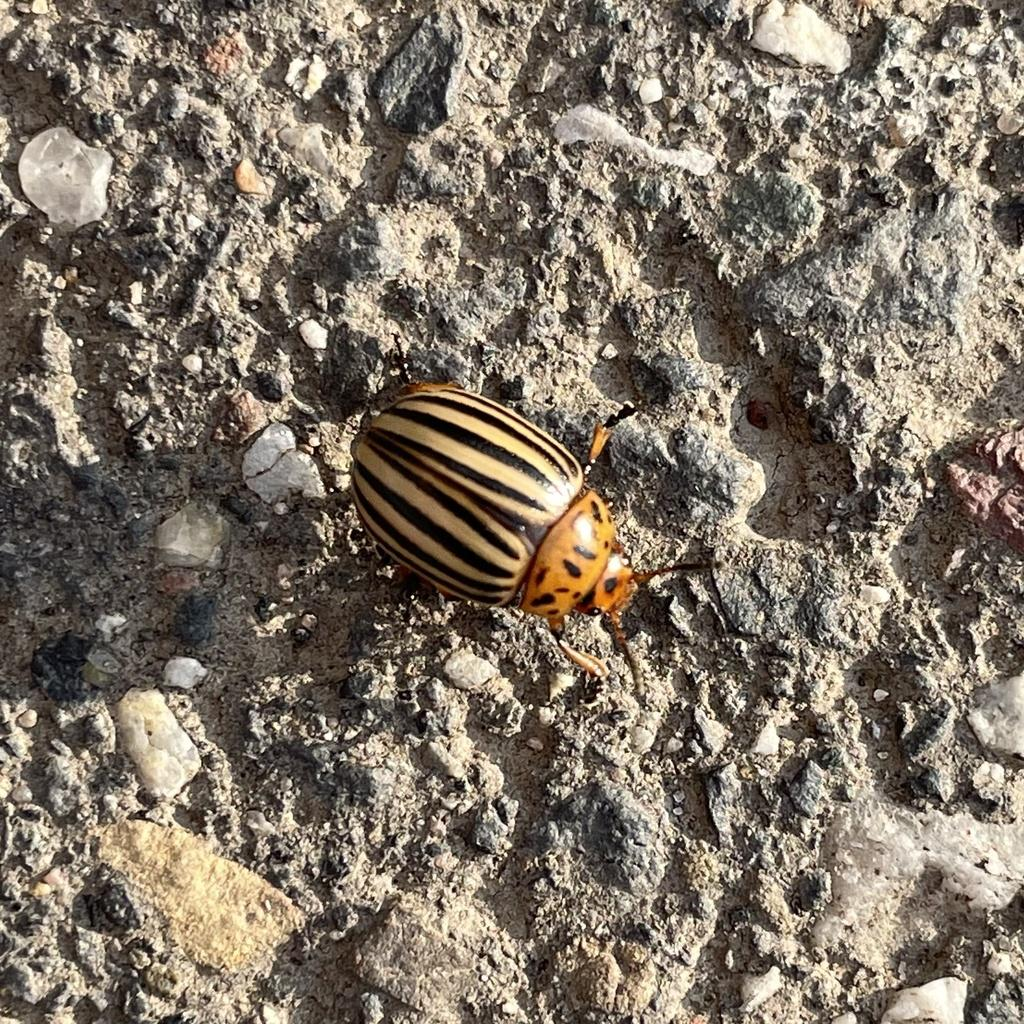potato_beetle: (270, 321, 733, 693)
